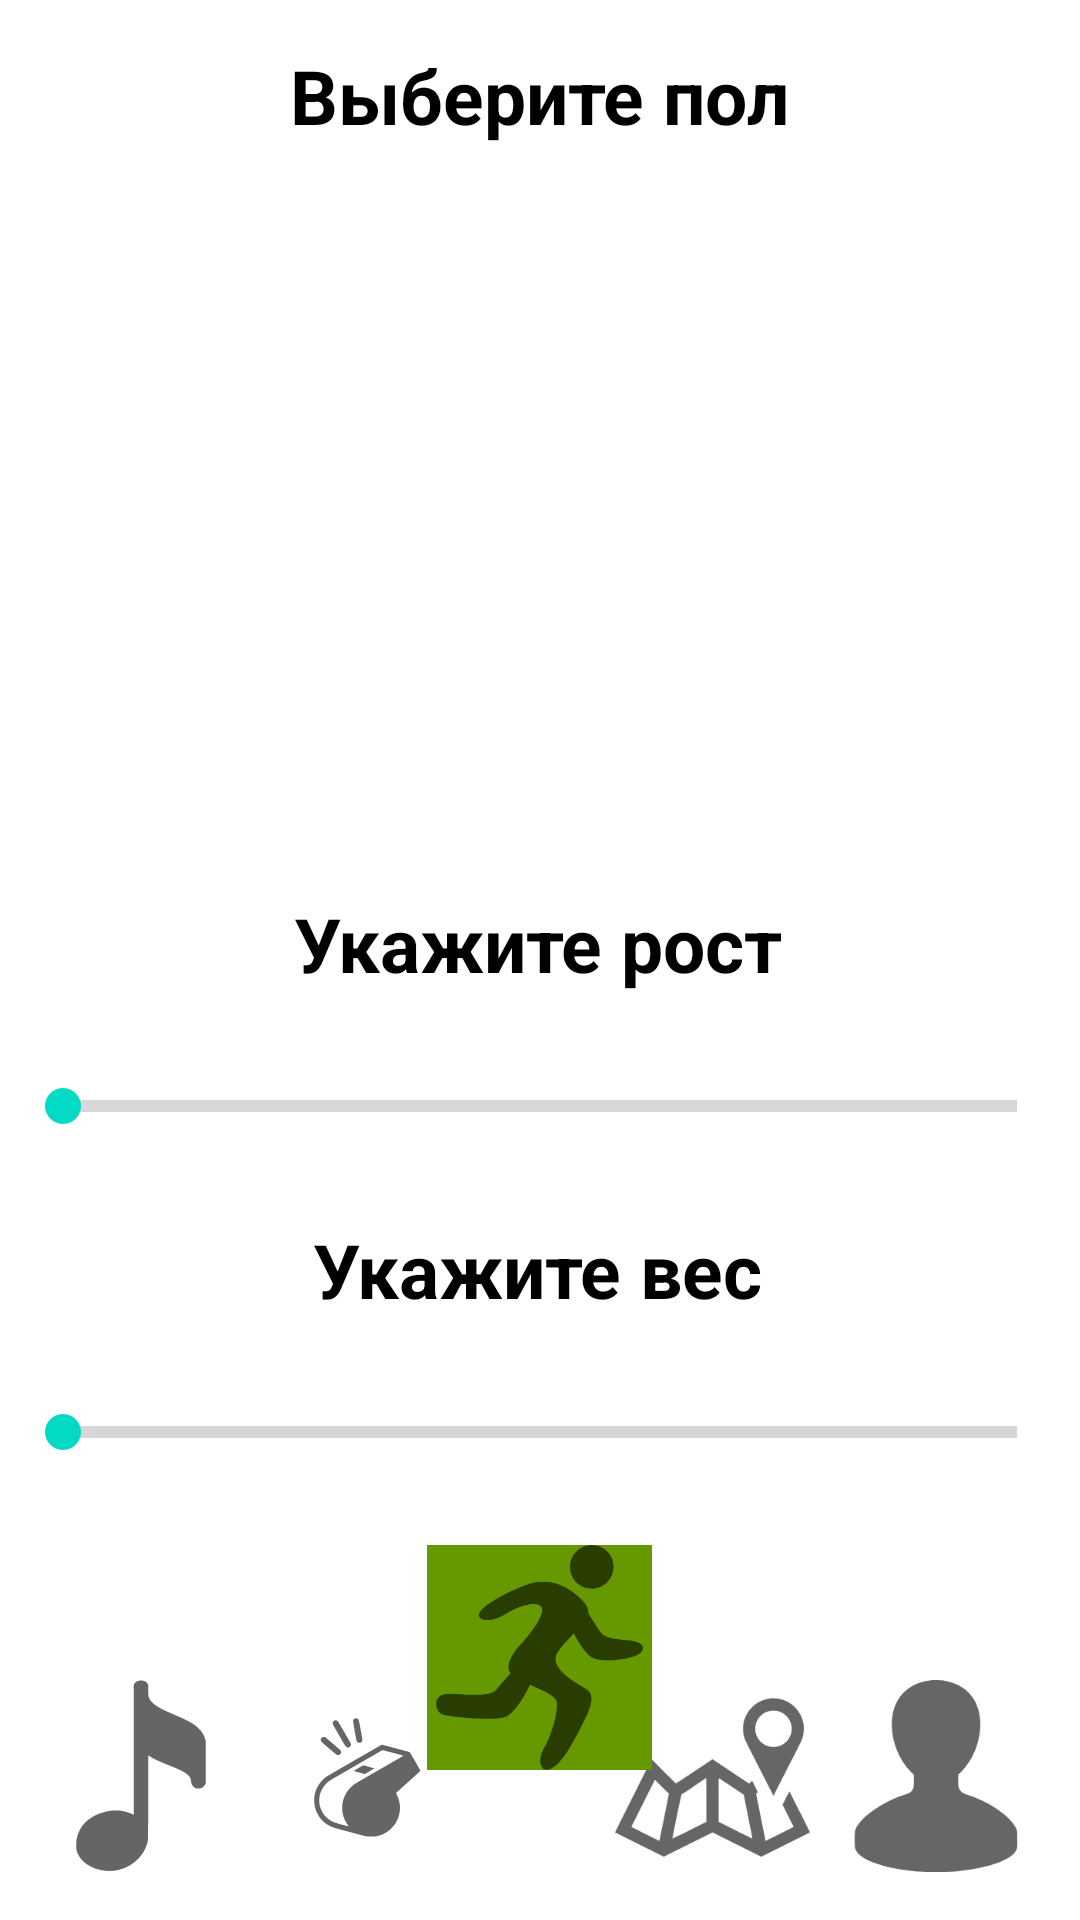

Icon bounding boxes for this 1080w x 1920h phone screenshot, format BBox(x1, y1, x2, y2):
body: BBox(854, 1680, 1018, 1872)
map: BBox(615, 1680, 810, 1857)
music: BBox(76, 1680, 206, 1871)
run: BBox(427, 1545, 652, 1770)
